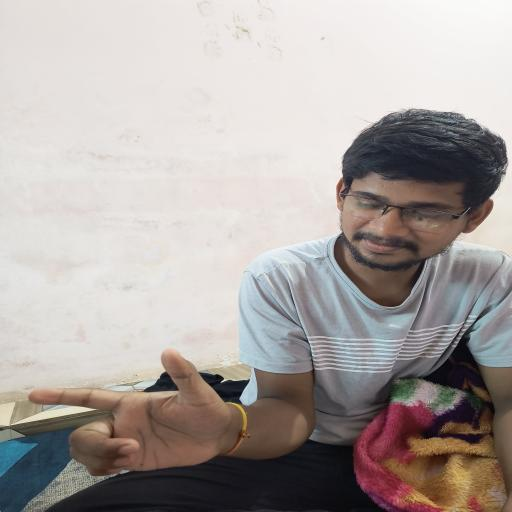Sorry: (13, 340, 272, 484)
